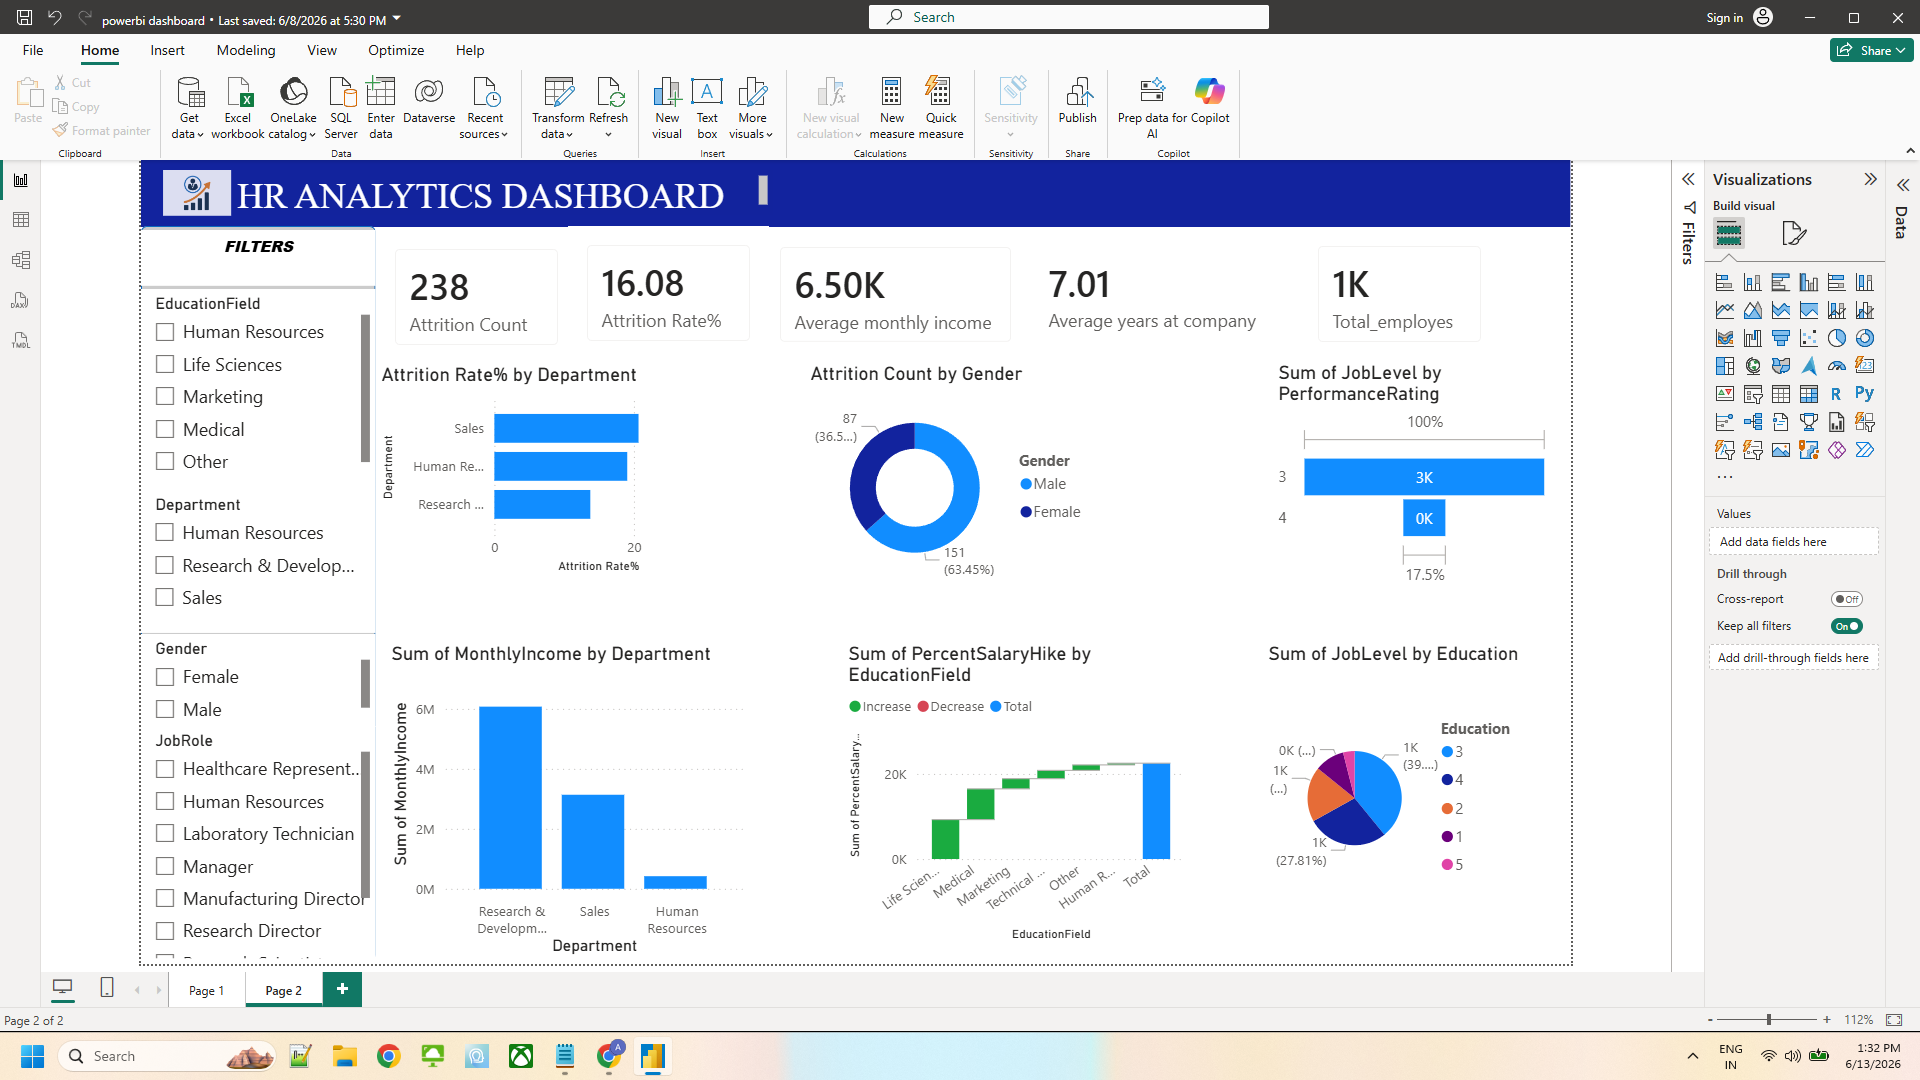

Layout of this report page (visuals, bound fields, positions):
{"tool":"powerbi","page":{"name":"Page 2","canvas":[1280,720],"ordinal":1},"visuals":[{"type":"shape","box":[0,0,1280,60.3],"z":0},{"type":"textbox","box":[50.6,8.8,515.5,40.9],"z":1000},{"type":"image","box":[10.7,8.8,78.8,40.9],"z":2000},{"type":"cardVisual","fields":{"Data":["HR_Analytics.Attrition Count"]},"box":[210.1,62.2,180,120],"z":3000},{"type":"cardVisual","fields":{"Data":["HR_Analytics.Attrition Rate%"]},"box":[382.2,59.3,180,120],"z":4000},{"type":"cardVisual","fields":{"Data":["HR_Analytics.Average monthly income"]},"box":[555.4,61.3,241.2,119.6],"z":5000},{"type":"cardVisual","fields":{"Data":["HR_Analytics.Average years at company"]},"box":[784,61.3,252.9,119.6],"z":6000},{"type":"cardVisual","fields":{"Data":["HR_Analytics.Total_employes"]},"box":[1036.8,60.3,180,120],"z":7000},{"type":"shape","box":[0,59.3,210.1,657.5],"z":8000},{"type":"slicer","fields":{"Values":["HR_Analytics.Department"]},"box":[0,295.7,210.1,128.4],"z":9000},{"type":"slicer","fields":{"Values":["HR_Analytics.Gender"]},"box":[0,424.1,210.1,82.7],"z":10000},{"type":"slicer","fields":{"Values":["HR_Analytics.JobRole"]},"box":[0,506.7,210.1,213],"z":11000},{"type":"slicer","fields":{"Values":["HR_Analytics.EducationField"]},"box":[0,115.7,210.1,179.9],"z":12000},{"type":"textbox","box":[0,62.2,210.1,49.6],"z":13000},{"type":"barChart","fields":{"Category":["HR_Analytics.Department"],"Y":["HR_Analytics.Attrition Rate%"]},"box":[210.1,181.9,305.4,192.6],"z":14000},{"type":"donutChart","fields":{"Category":["HR_Analytics.Gender"],"Y":["HR_Analytics.Attrition Count"]},"box":[594.3,180.9,262.6,206.2],"z":15000},{"type":"columnChart","fields":{"Category":["HR_Analytics.Department"],"Y":["Sum(HR_Analytics.MonthlyIncome)"]},"box":[219.8,431.9,324.9,285],"z":16000},{"type":"funnel","fields":{"Category":["HR_Analytics.PerformanceRating"],"Y":["Sum(HR_Analytics.JobLevel)"]},"box":[1013.5,179.9,252.9,206.2],"z":17000},{"type":"waterfallChart","fields":{"Category":["HR_Analytics.EducationField"],"Y":["Sum(HR_Analytics.PercentSalaryHike)"]},"box":[628.3,431.9,311.2,272.3],"z":18000},{"type":"pieChart","fields":{"Category":["HR_Analytics.Education"],"Y":["Sum(HR_Analytics.JobLevel)"]},"box":[1004.7,431.9,245.1,260.7],"z":19000}]}

Visuals, with their boxes on the page's 1280x720 design canvas (x1, y1, x2, y2). These are canvas units, not pixel positions in the 1920x1080 screenshot, which may show the page scaled, cropped or inside an application window:
shape: left=0, top=0, right=1280, bottom=60
textbox: left=51, top=9, right=566, bottom=50
image: left=11, top=9, right=90, bottom=50
cardVisual - HR_Analytics.Attrition Count: left=210, top=62, right=390, bottom=182
cardVisual - HR_Analytics.Attrition Rate%: left=382, top=59, right=562, bottom=179
cardVisual - HR_Analytics.Average monthly income: left=555, top=61, right=797, bottom=181
cardVisual - HR_Analytics.Average years at company: left=784, top=61, right=1037, bottom=181
cardVisual - HR_Analytics.Total_employes: left=1037, top=60, right=1217, bottom=180
shape: left=0, top=59, right=210, bottom=717
slicer - HR_Analytics.Department: left=0, top=296, right=210, bottom=424
slicer - HR_Analytics.Gender: left=0, top=424, right=210, bottom=507
slicer - HR_Analytics.JobRole: left=0, top=507, right=210, bottom=720
slicer - HR_Analytics.EducationField: left=0, top=116, right=210, bottom=296
textbox: left=0, top=62, right=210, bottom=112
barChart - HR_Analytics.Department x HR_Analytics.Attrition Rate%: left=210, top=182, right=516, bottom=374
donutChart - HR_Analytics.Gender x HR_Analytics.Attrition Count: left=594, top=181, right=857, bottom=387
columnChart - HR_Analytics.Department x Sum(HR_Analytics.MonthlyIncome): left=220, top=432, right=545, bottom=717
funnel - HR_Analytics.PerformanceRating x Sum(HR_Analytics.JobLevel): left=1014, top=180, right=1266, bottom=386
waterfallChart - HR_Analytics.EducationField x Sum(HR_Analytics.PercentSalaryHike): left=628, top=432, right=940, bottom=704
pieChart - HR_Analytics.Education x Sum(HR_Analytics.JobLevel): left=1005, top=432, right=1250, bottom=693
